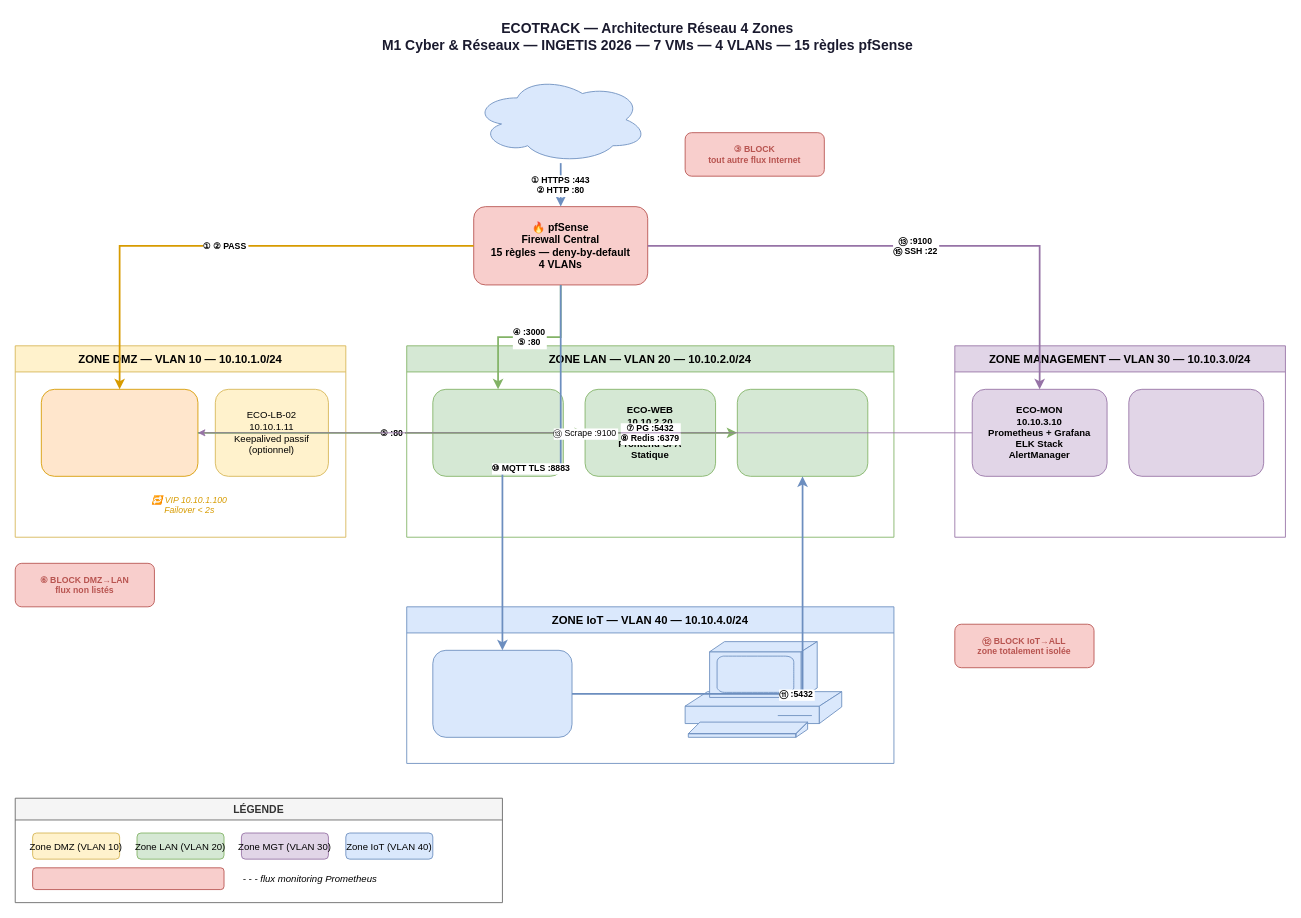
Image size: 1301x918. Some labels were removed from this diagram. Each missing label, with the centre of its shape:
BLOCK = règle pfSense bloquante: (128,878)
ECO-APP 10.10.2.10 Node.js API REST JWT Auth PM2: (497,432)
ECO-DB 10.10.2.30 PostgreSQL 15 + PostGIS Patroni HA + etcd Redis 7.2: (802,432)
ECO-MQTT 10.10.4.10 Mosquitto MQTT TLS 1.3 — Port 8883 Auth certificats: (502,693)
ECO-PROXY 10.10.1.10 HAProxy + Nginx ModSecurity WAF Keepalived VIP: 10.10.1.100: (119,432)
ECO-SEC 10.10.3.20 Suricata IDS 5 règles custom ECOTRACK: (1196,432)
🌐 INTERNET: (560,119)
🌡️ 2000 Capteurs IoT Conteneurs connectés Mesures toutes les 15 min: (763,689)
